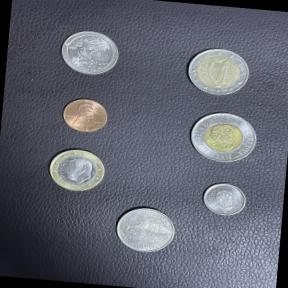1 Euro-B: (43, 144, 112, 198)
2 Euro-B: (180, 43, 258, 103)
Canada-10cent-B: (196, 177, 252, 221)
Canada-2Dollar-B: (185, 106, 265, 169)
Croatia-2Kune-B: (108, 199, 184, 259)
US-1cent-B: (58, 94, 114, 138)
US-25cent-B: (54, 26, 125, 80)
